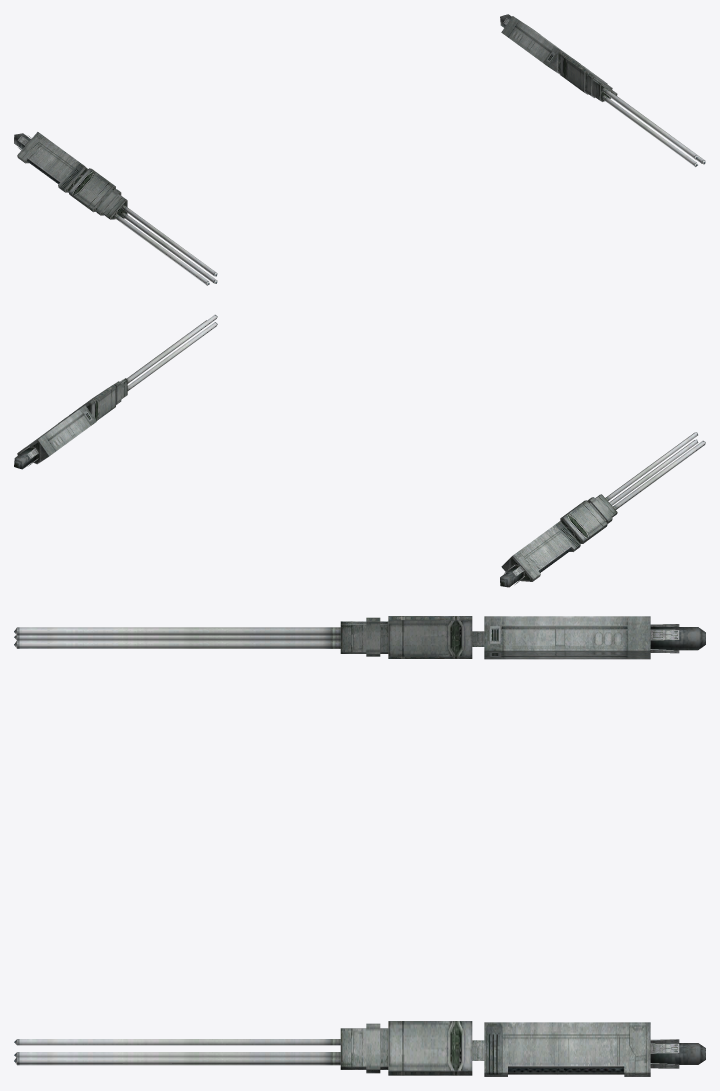
Rendered from hutt_fighter_medium_weapon1_s04_l1.fbx.
3 renders of one model, top to bottom at view 1: azimuth 30°, elevation 25°; view 2: azimuth 150°, elevation 25°; view 3: azimuth 270°, elevation 25°, orthographic. The views are drawn at different scales.
Visible parts, largest first — view 1: mesh_node; view 2: mesh_node; view 3: mesh_node.
Boxes of the visible parts, <box> form: mesh_node: <box>14,14,705,285</box>; mesh_node: <box>14,314,705,587</box>; mesh_node: <box>14,616,705,1076</box>.
Bounding box in the file's own units: 13.79 × 0.6449 × 9.14.
